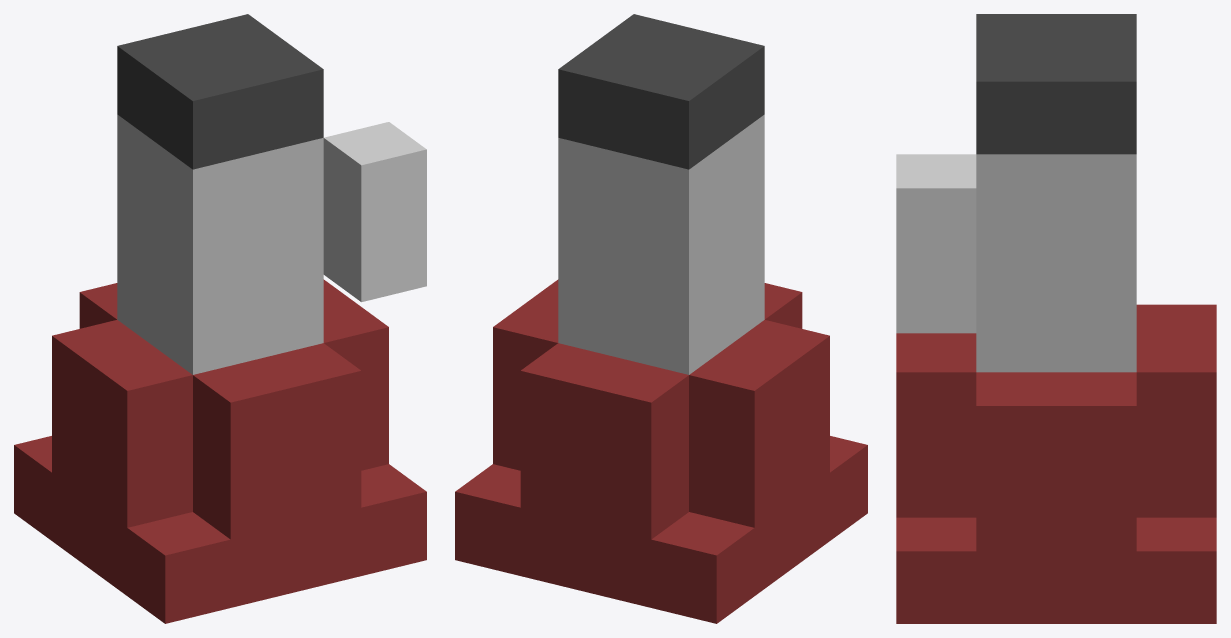
Rendered from Blender.obj.
3 renders of one model, left to right at view 1: azimuth 30°, elevation 25°; view 2: azimuth 150°, elevation 25°; view 3: azimuth 270°, elevation 25°, orthographic. The views are drawn at different scales.
Visible parts, largest first — view 1: Blender; view 2: Blender; view 3: Blender.
Boxes of the visible parts, x1,y1,x2,y2 form: Blender: (14,14,426,623); Blender: (455,14,867,623); Blender: (896,14,1216,623).
Bounding box in the file's own units: 4 × 7 × 4.
Materials: 1 (1 with a texture image).
